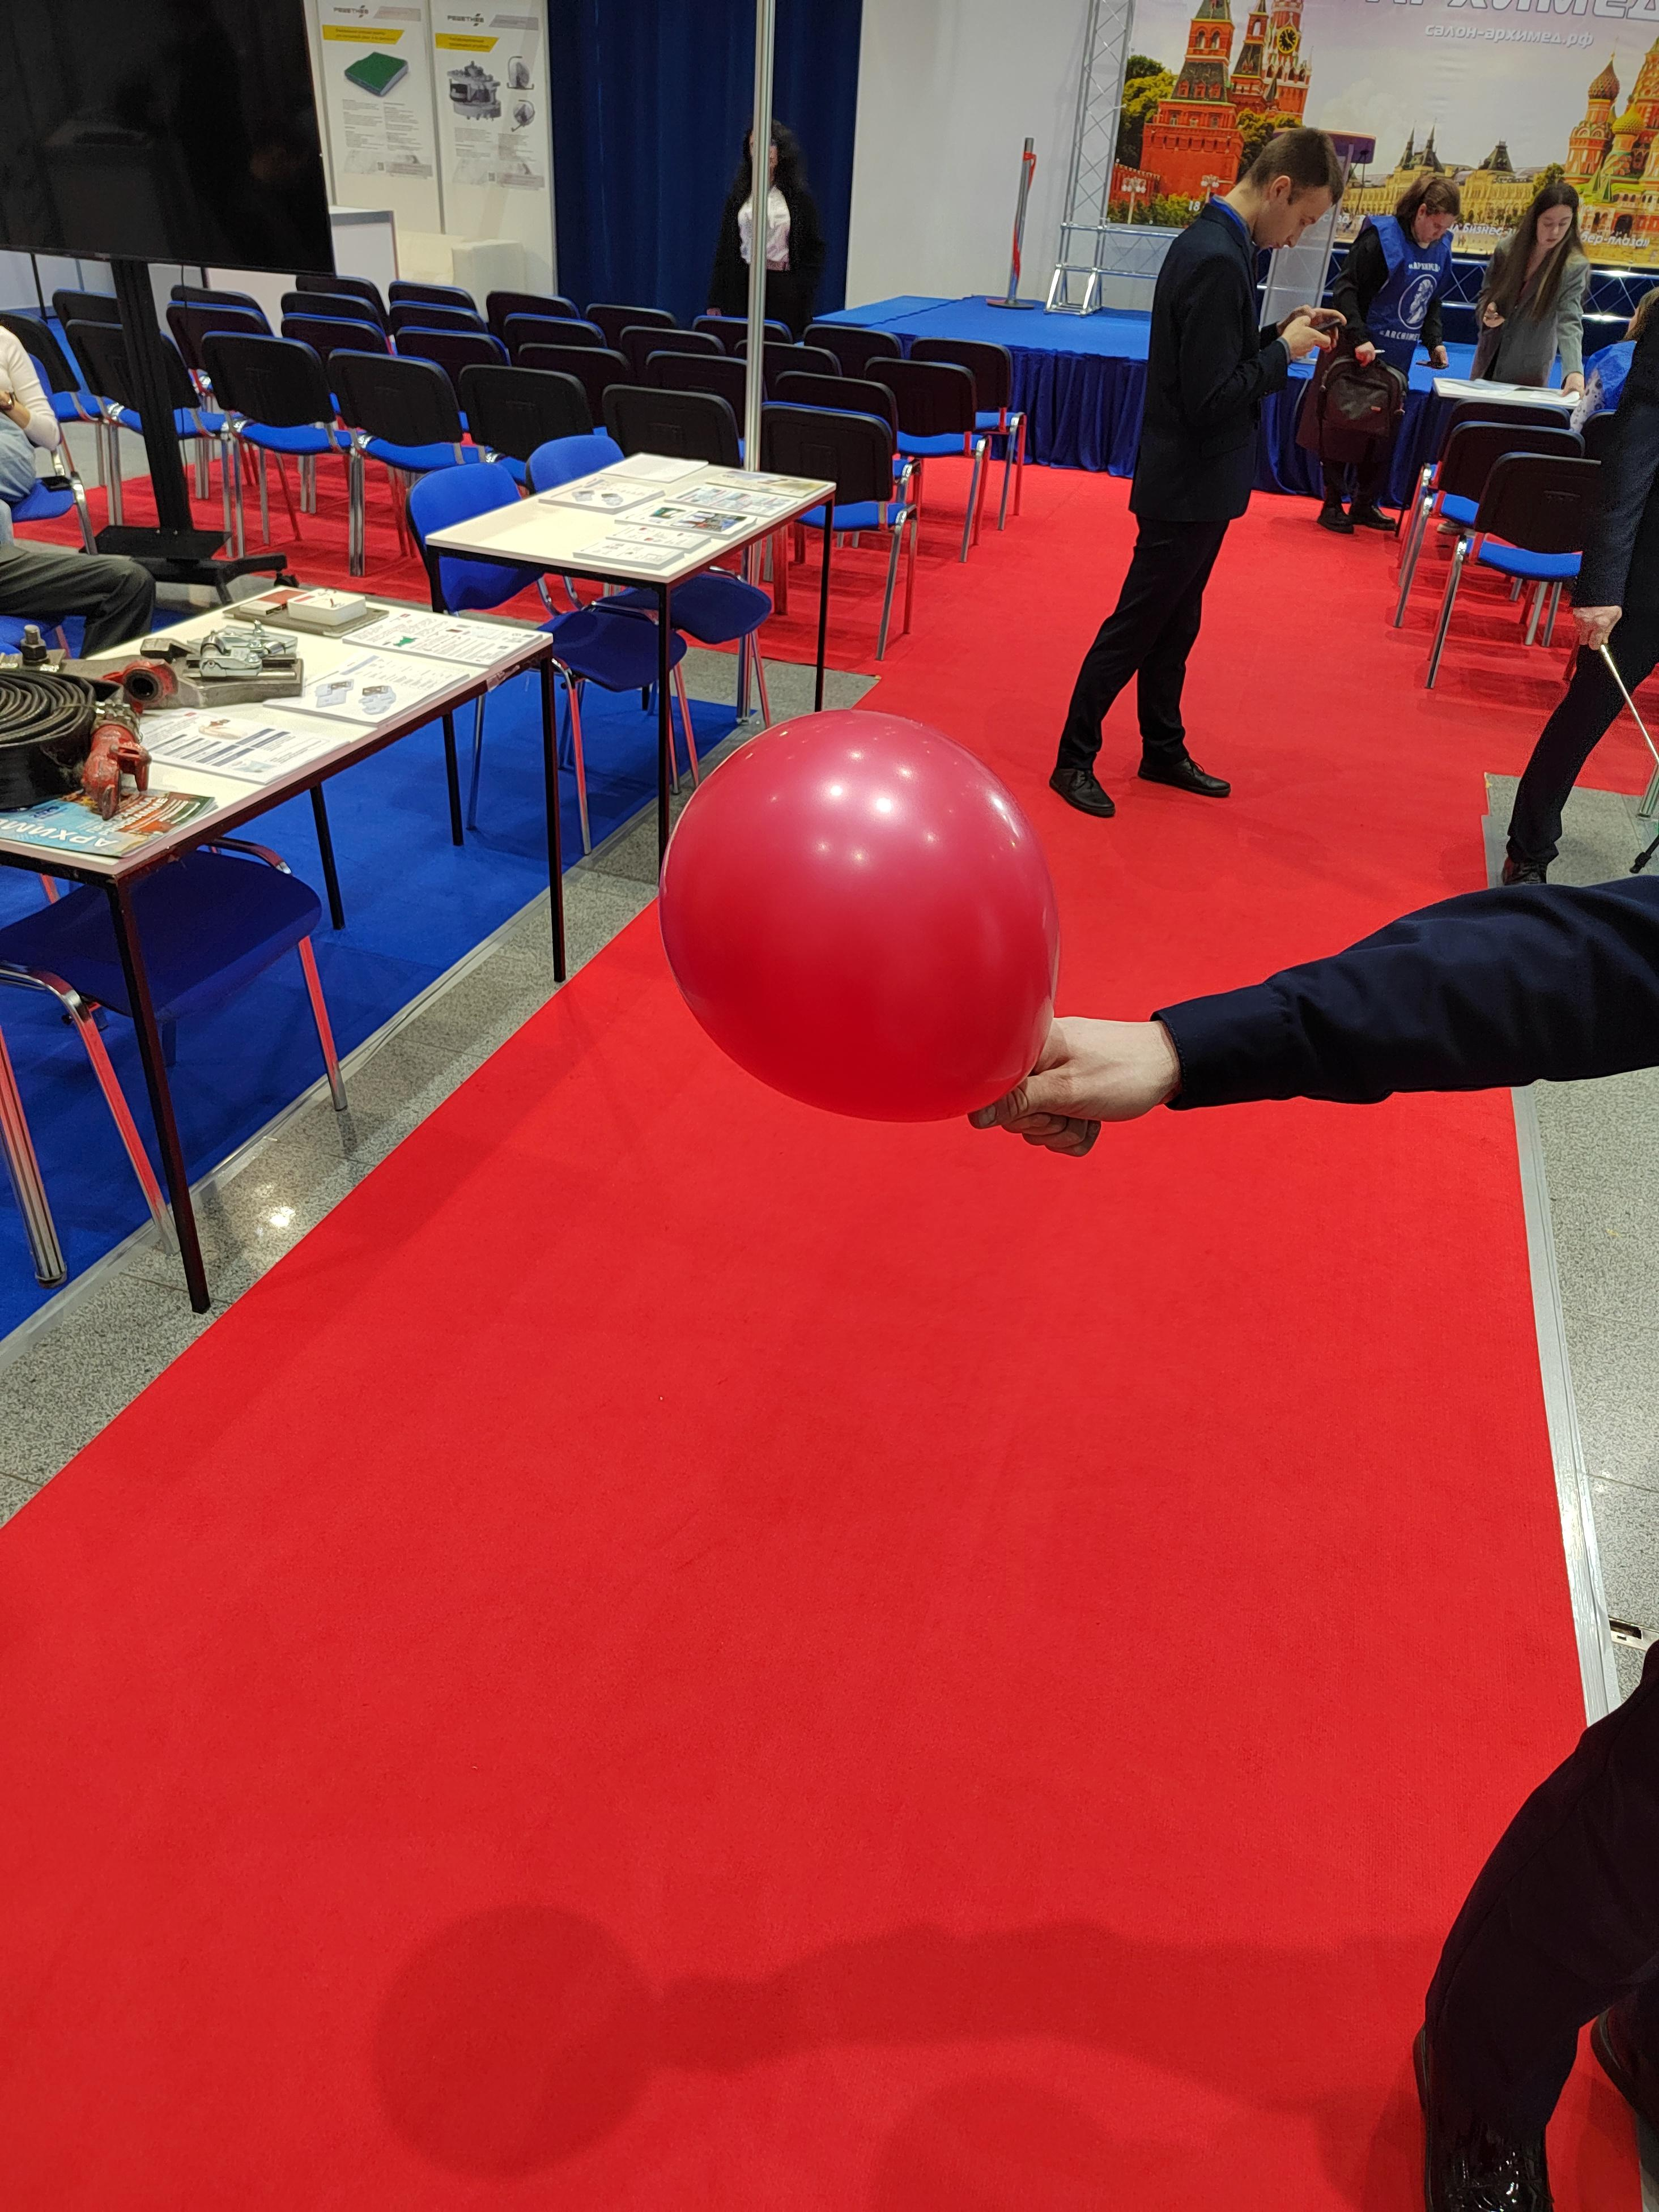red: (662, 704, 1061, 1129)
